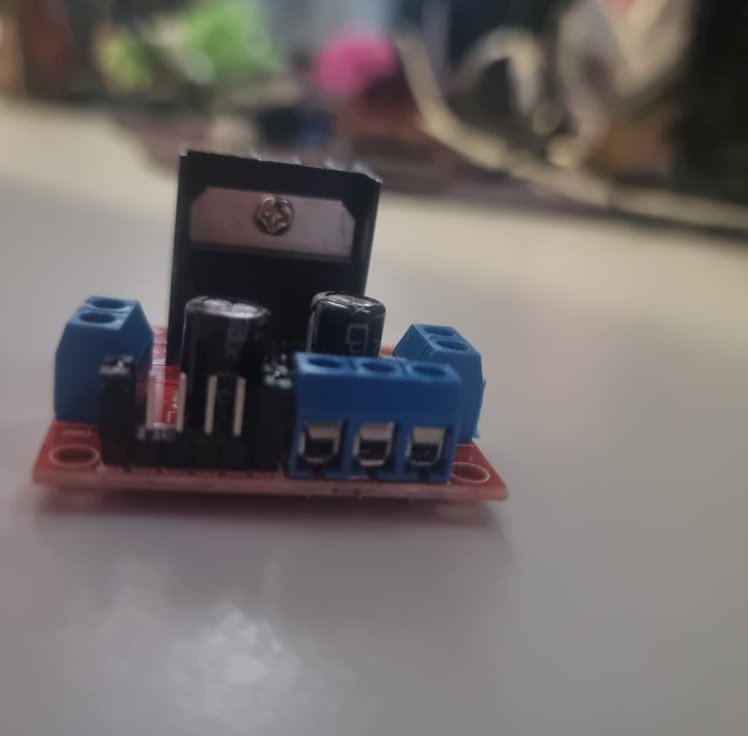MOTOR: (25, 149, 508, 510)
